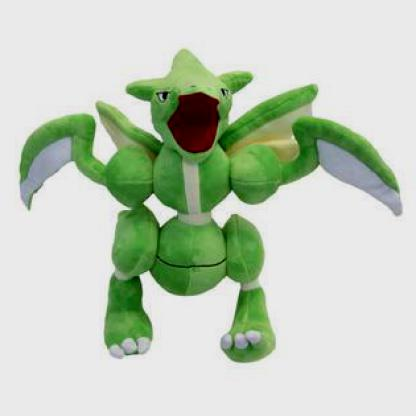Sichlor: (2, 0, 416, 414)
